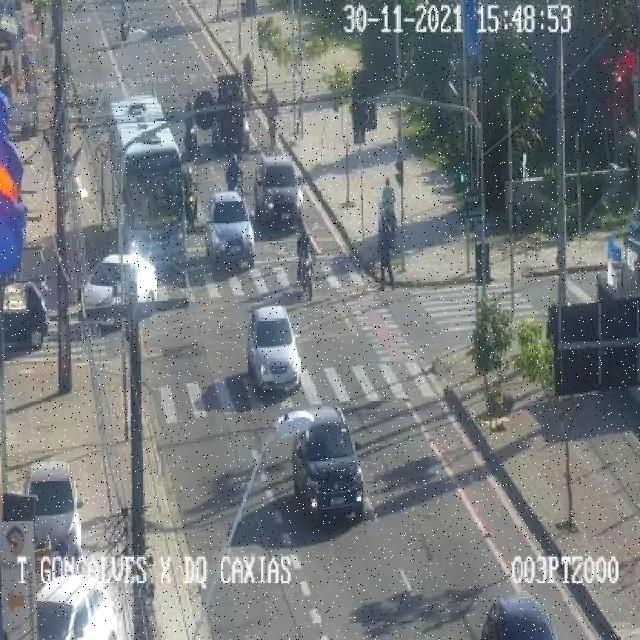bicycle: (266, 88, 280, 150), (242, 53, 255, 104)
bus: (106, 97, 186, 266)
car: (292, 406, 363, 519), (24, 461, 81, 572), (81, 253, 157, 327), (35, 574, 117, 640), (247, 306, 300, 388), (204, 190, 253, 264), (480, 594, 558, 640), (253, 155, 302, 228), (2, 281, 47, 350), (212, 96, 248, 150)
motorbike: (376, 213, 395, 292), (297, 222, 315, 298), (183, 166, 200, 228), (382, 178, 396, 250), (225, 152, 242, 197), (183, 98, 197, 152), (117, 0, 131, 43), (21, 48, 30, 90)
